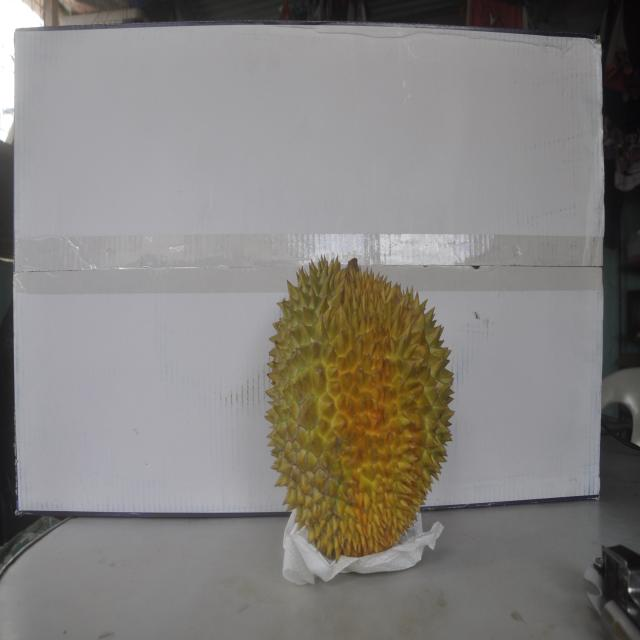mature: (266, 249, 450, 562)
